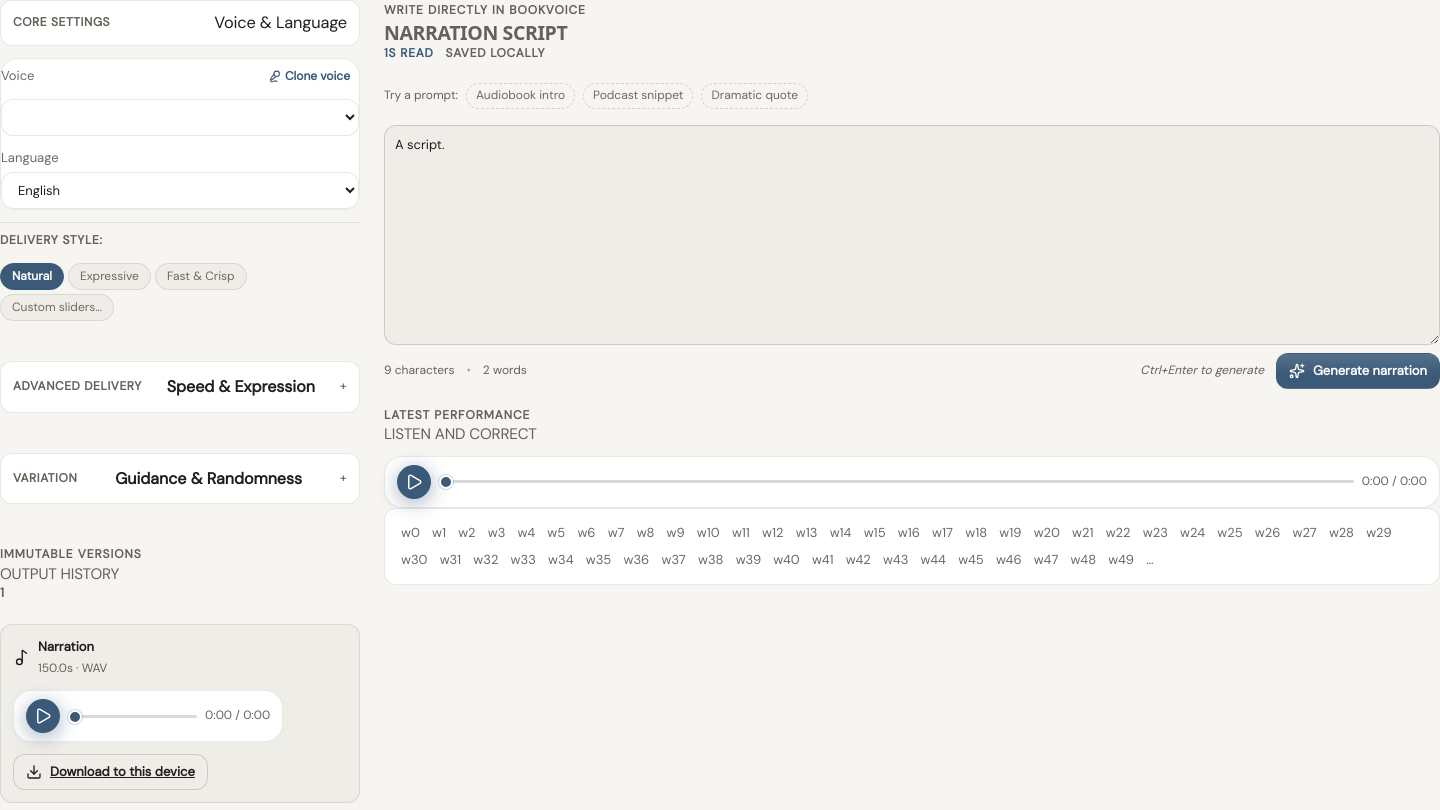
it: StudioNarration transcript windowing › expands forward from the trailing ellipsis without rendering the whole performance
Step 1. Click the button named "Show 250 more words" → (1150, 560), box top-left (1142, 548), bottom-right (1158, 572)
(page scrolled)
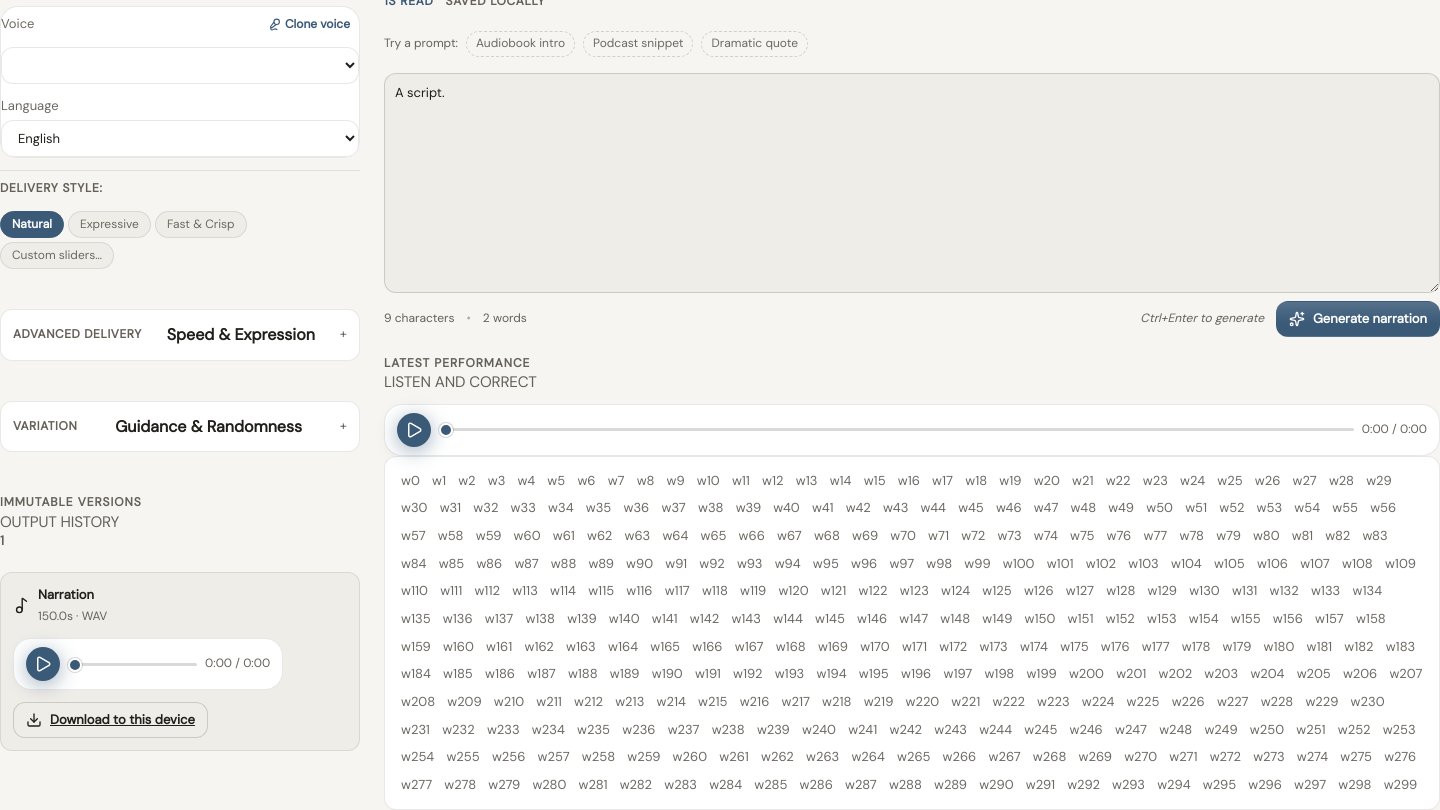
Check: the button "w299" is shown, box top-left (1380, 773), bottom-right (1421, 797)
